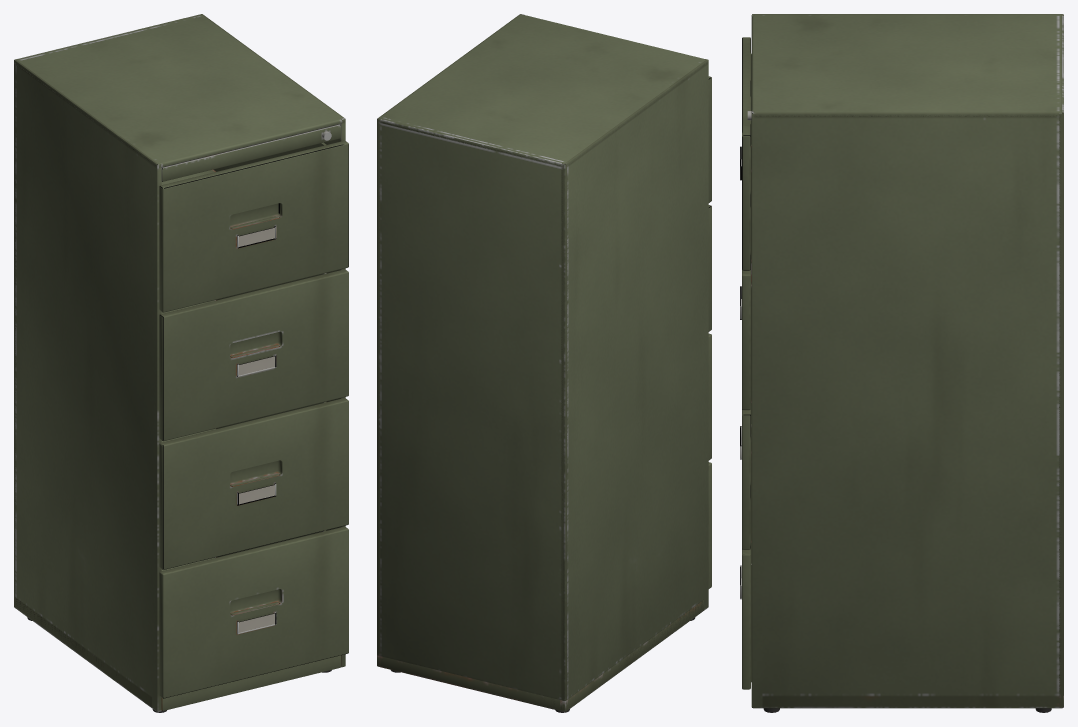
The model's file is akte_oliv.glb.
3 renders of one model, left to right at view 1: azimuth 30°, elevation 25°; view 2: azimuth 150°, elevation 25°; view 3: azimuth 270°, elevation 25°, orthographic. The views are drawn at different scales.
Visible parts, largest first — view 1: korpus, schublade_4, schublade_1, schublade_3, schublade_2; view 2: korpus; view 3: korpus, schublade_4, schublade_3, schublade_1, schublade_2.
Boxes of the visible parts, <box> form: korpus: <box>14,14,345,712</box>; schublade_4: <box>159,140,348,312</box>; schublade_1: <box>159,526,348,698</box>; schublade_3: <box>159,269,348,441</box>; schublade_2: <box>159,398,348,569</box>; korpus: <box>377,14,708,712</box>; korpus: <box>747,14,1063,712</box>; schublade_4: <box>740,37,751,270</box>; schublade_3: <box>740,263,751,410</box>; schublade_1: <box>740,542,751,689</box>; schublade_2: <box>740,403,751,549</box>.
Size of the model in its own units: 0.47 by 1.32 by 0.643.
1 material, 1 textured.
